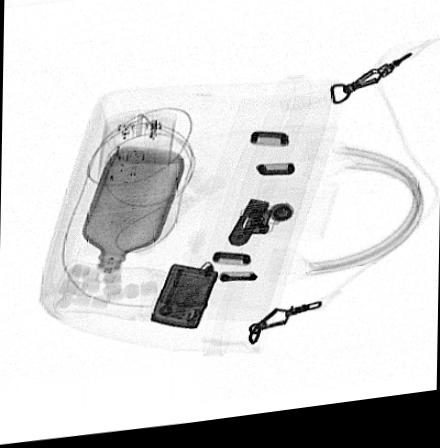Lighter: (149, 268, 219, 334)
